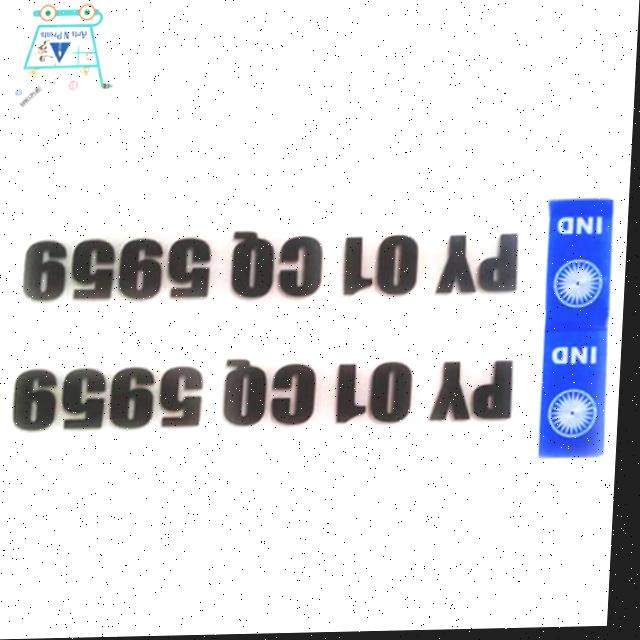plate: (0, 328, 613, 475), (0, 195, 618, 330)
